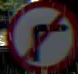Don't turn right: (7, 2, 76, 70)
